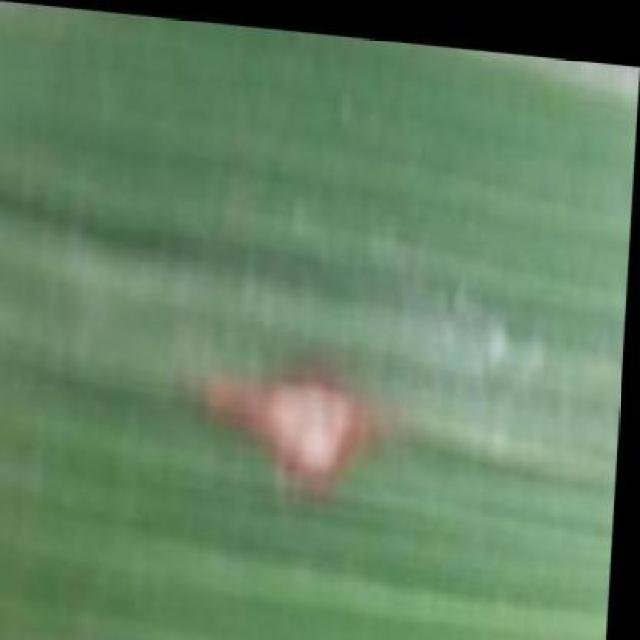Bacterial_Leaf_Blight: (176, 332, 433, 520)
